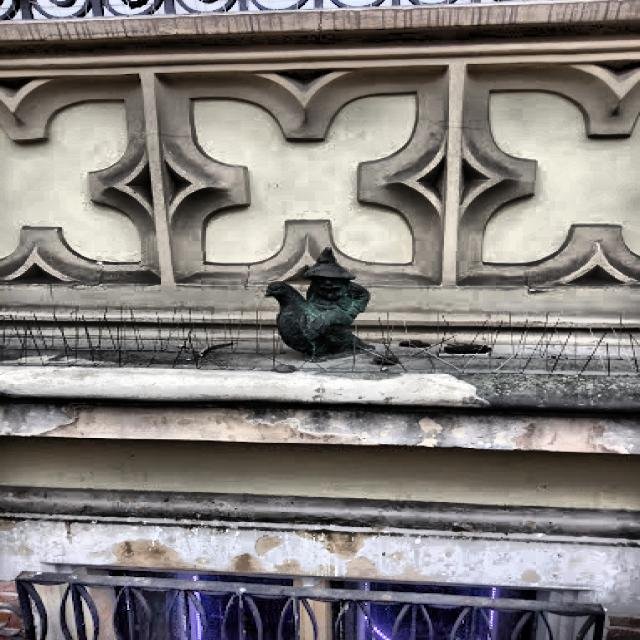Golebnik: (265, 247, 374, 359)
